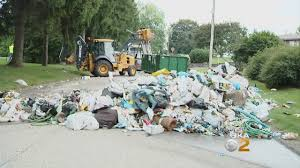garbage: (1, 89, 274, 138), (136, 72, 250, 136)
